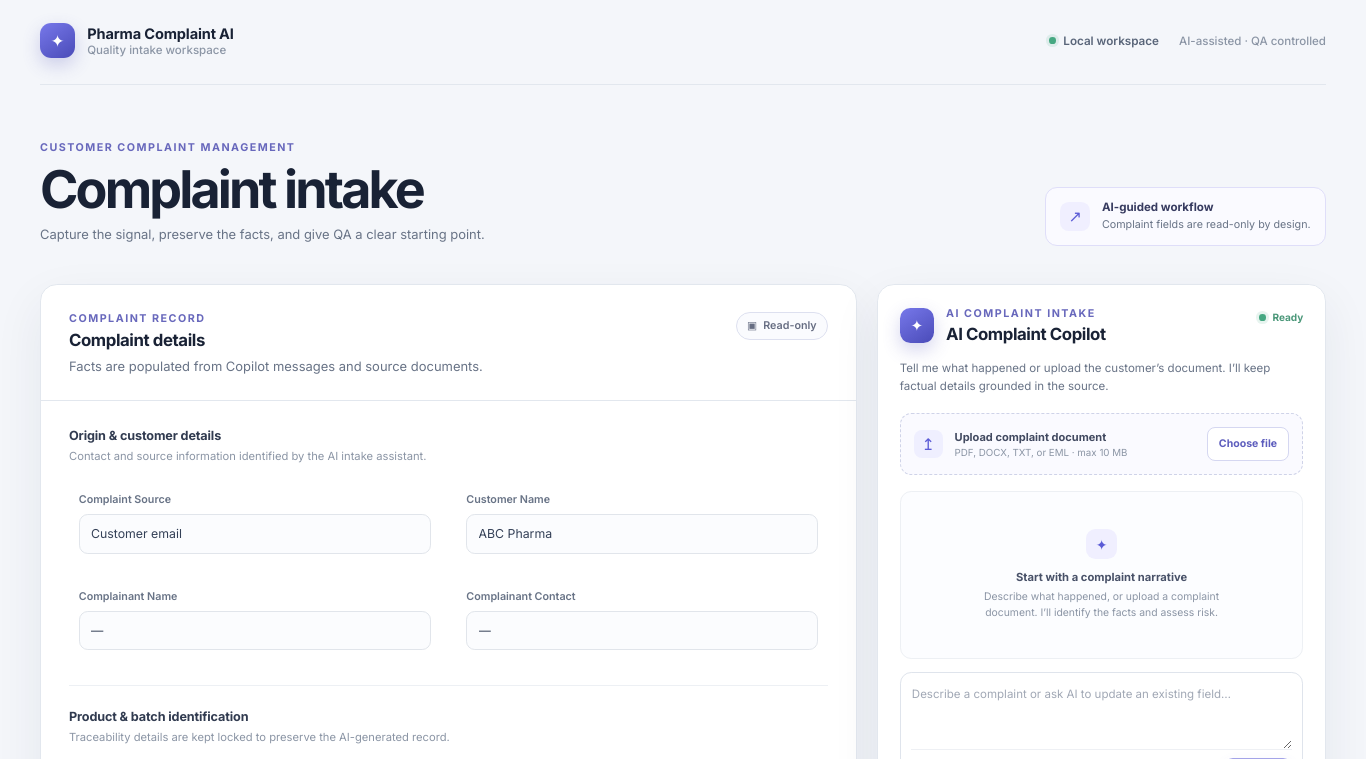
ComplaintPage AI workflow › preserves the current complaint when an AI request fails
Step 1. Type "Change the quantity to 500." into the text box named "AI Copilot message" → (1102, 716), box [911,684,1292,749]
(page scrolled)
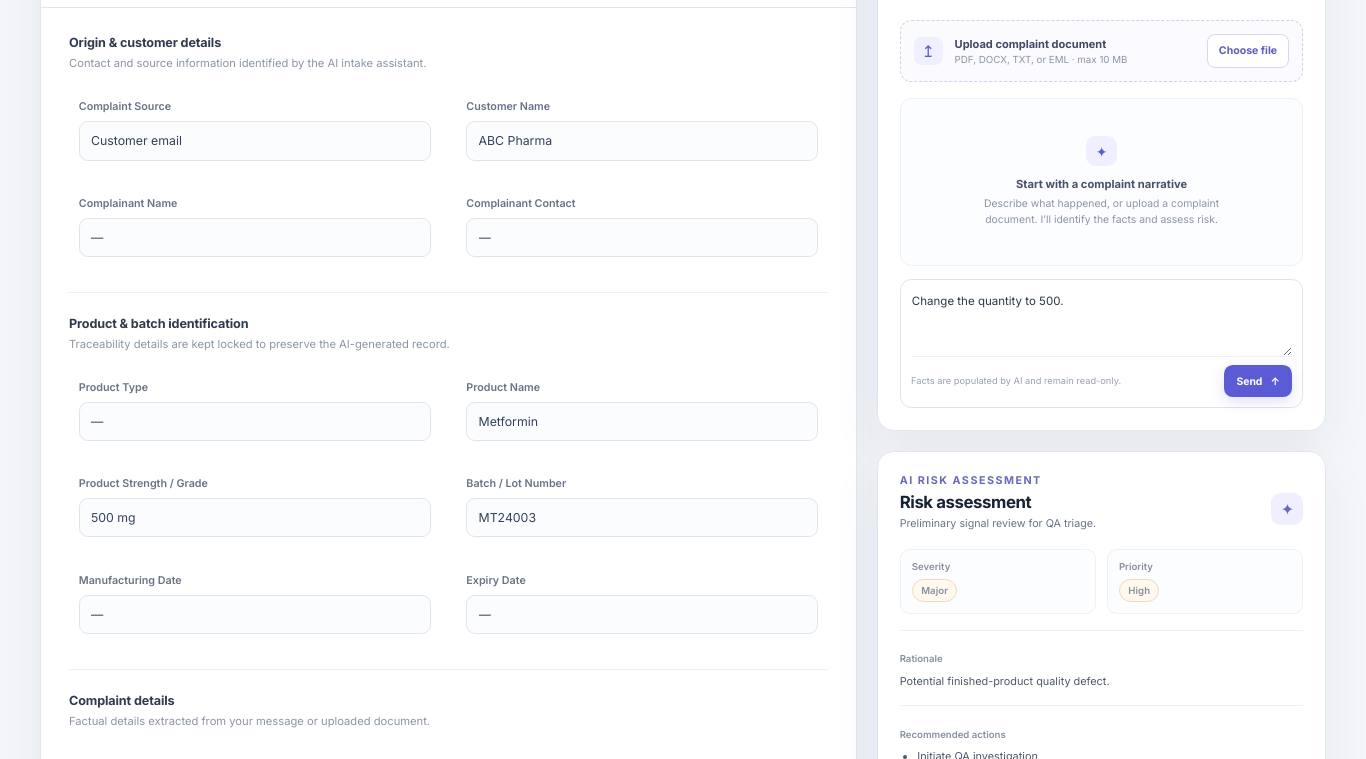
Step 2. Click the button "Send ↑" → (1258, 381), box [1224,365,1292,397]
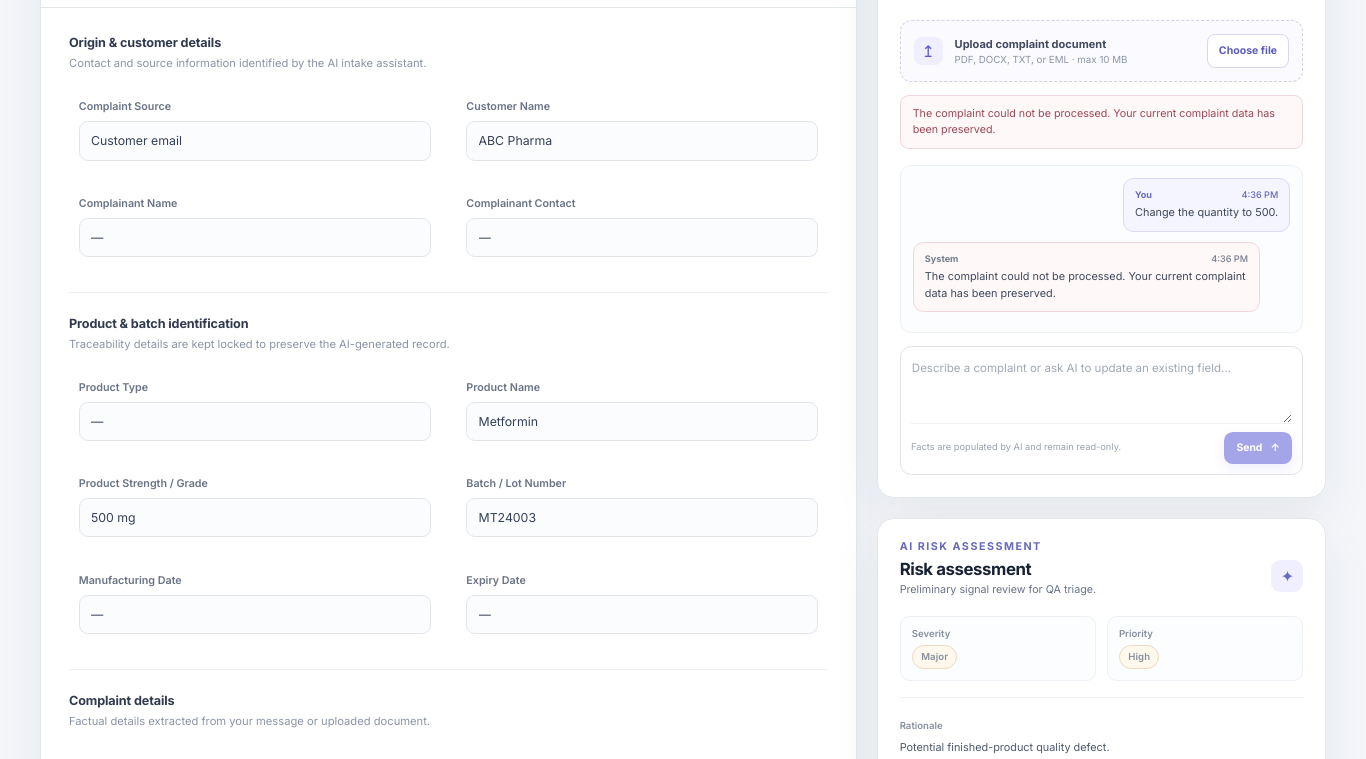
Expected: the field labelled "Product Name" holds "Metformin", [466,402,818,441]
Expected: the message shows "The complaint could not be processed", [913,108,1275,136]
